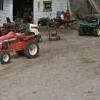Tractor: (2, 15, 47, 65)
